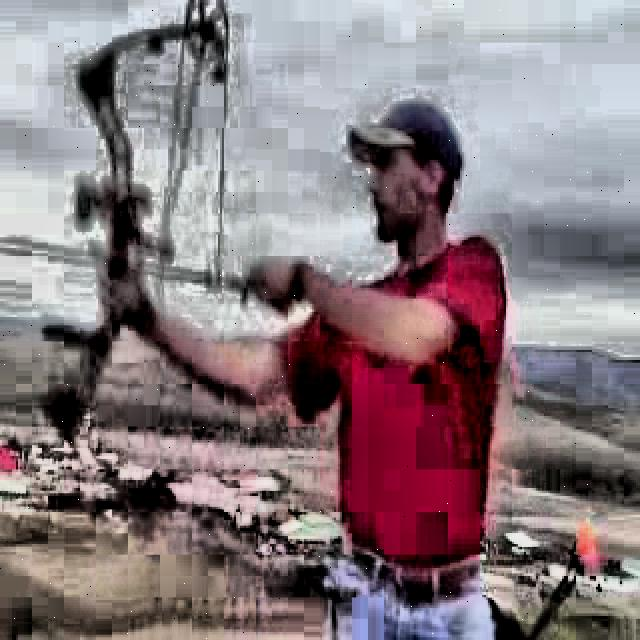P: (66, 88, 509, 640)
